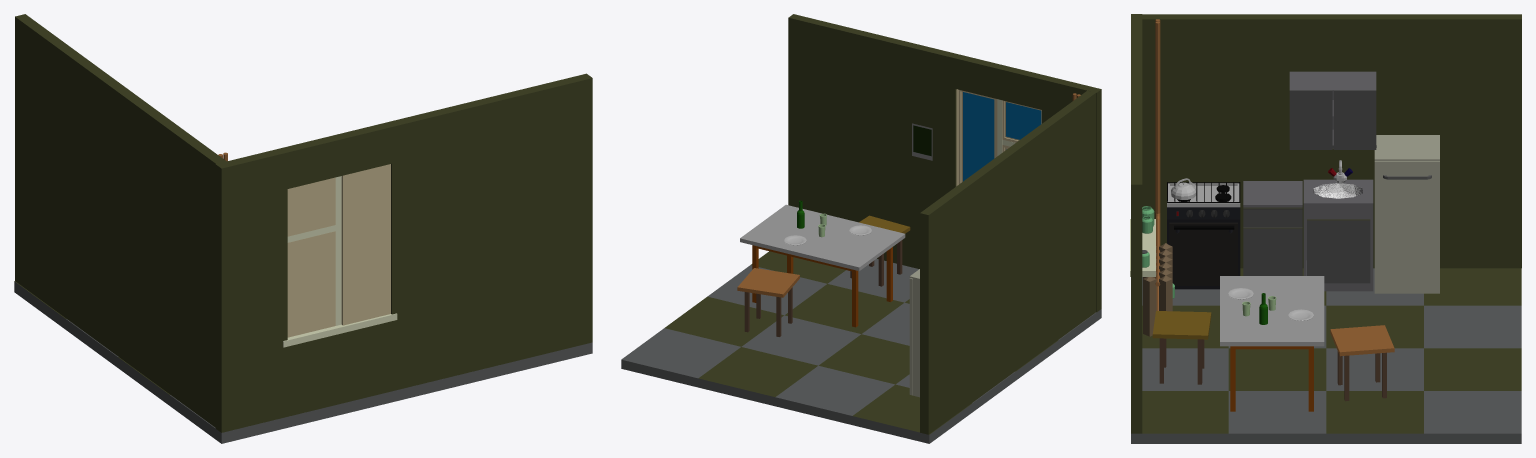
File: uploads_files_4361963_kitchenF.fbx
3 renders of one model, left to right at view 1: azimuth 30°, elevation 25°; view 2: azimuth 150°, elevation 25°; view 3: azimuth 270°, elevation 25°, orthographic. The views are drawn at different scales.
Parts seen in each view (by area): view 1: Cube.014, Cube.043, Cube.042; view 2: Cube.014, Cube, Cube.043, Cube.051, Cube.017, Cube.005, Plane; view 3: Cube.014, Cube.017, Cube, Cylinder.037, Cube.025, Cube.030, Cube.035, Cube.034, Cylinder.010, Cube.051, Cube.005, Icosphere (+2 smaller).
Boxes of the visible parts, bbox=[...] form: Cube.014: bbox=[14, 14, 592, 443]; Cube.043: bbox=[287, 164, 390, 337]; Cube.042: bbox=[283, 313, 397, 347]; Cube.014: bbox=[621, 14, 1101, 443]; Cube: bbox=[740, 204, 905, 327]; Cube.043: bbox=[956, 89, 1041, 186]; Cube.051: bbox=[737, 268, 799, 336]; Cube.017: bbox=[909, 269, 919, 397]; Cube.005: bbox=[850, 215, 910, 286]; Plane: bbox=[912, 123, 932, 160]; Cube.014: bbox=[1131, 14, 1521, 443]; Cube.017: bbox=[1374, 135, 1439, 293]; Cube: bbox=[1220, 276, 1324, 411]; Cylinder.037: bbox=[1167, 182, 1240, 289]; Cube.025: bbox=[1289, 71, 1376, 149]; Cube.030: bbox=[1243, 181, 1302, 275]; Cube.035: bbox=[1307, 219, 1370, 283]; Cube.034: bbox=[1303, 179, 1373, 291]; Cylinder.010: bbox=[1143, 19, 1172, 336]; Cube.051: bbox=[1330, 325, 1394, 401]; Cube.005: bbox=[1152, 311, 1211, 384]; Icosphere: bbox=[1313, 183, 1362, 198].
Size of the model in its own units: 3133 by 2221 by 3041.
